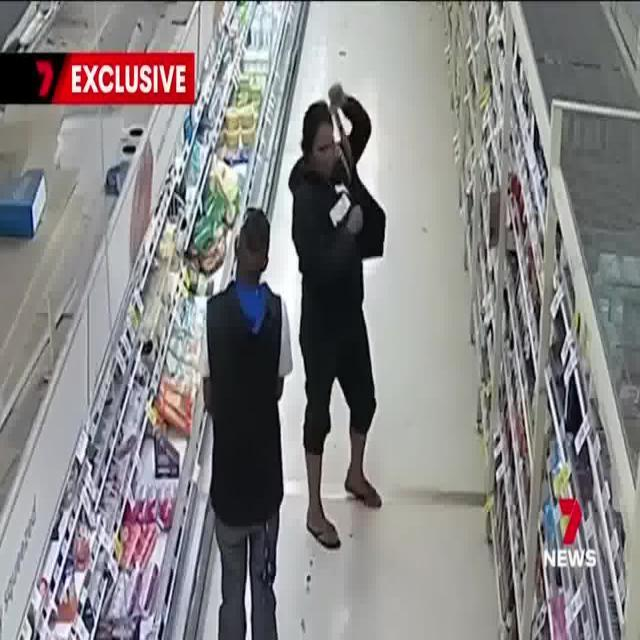Shoplifting: (293, 85, 408, 527)
